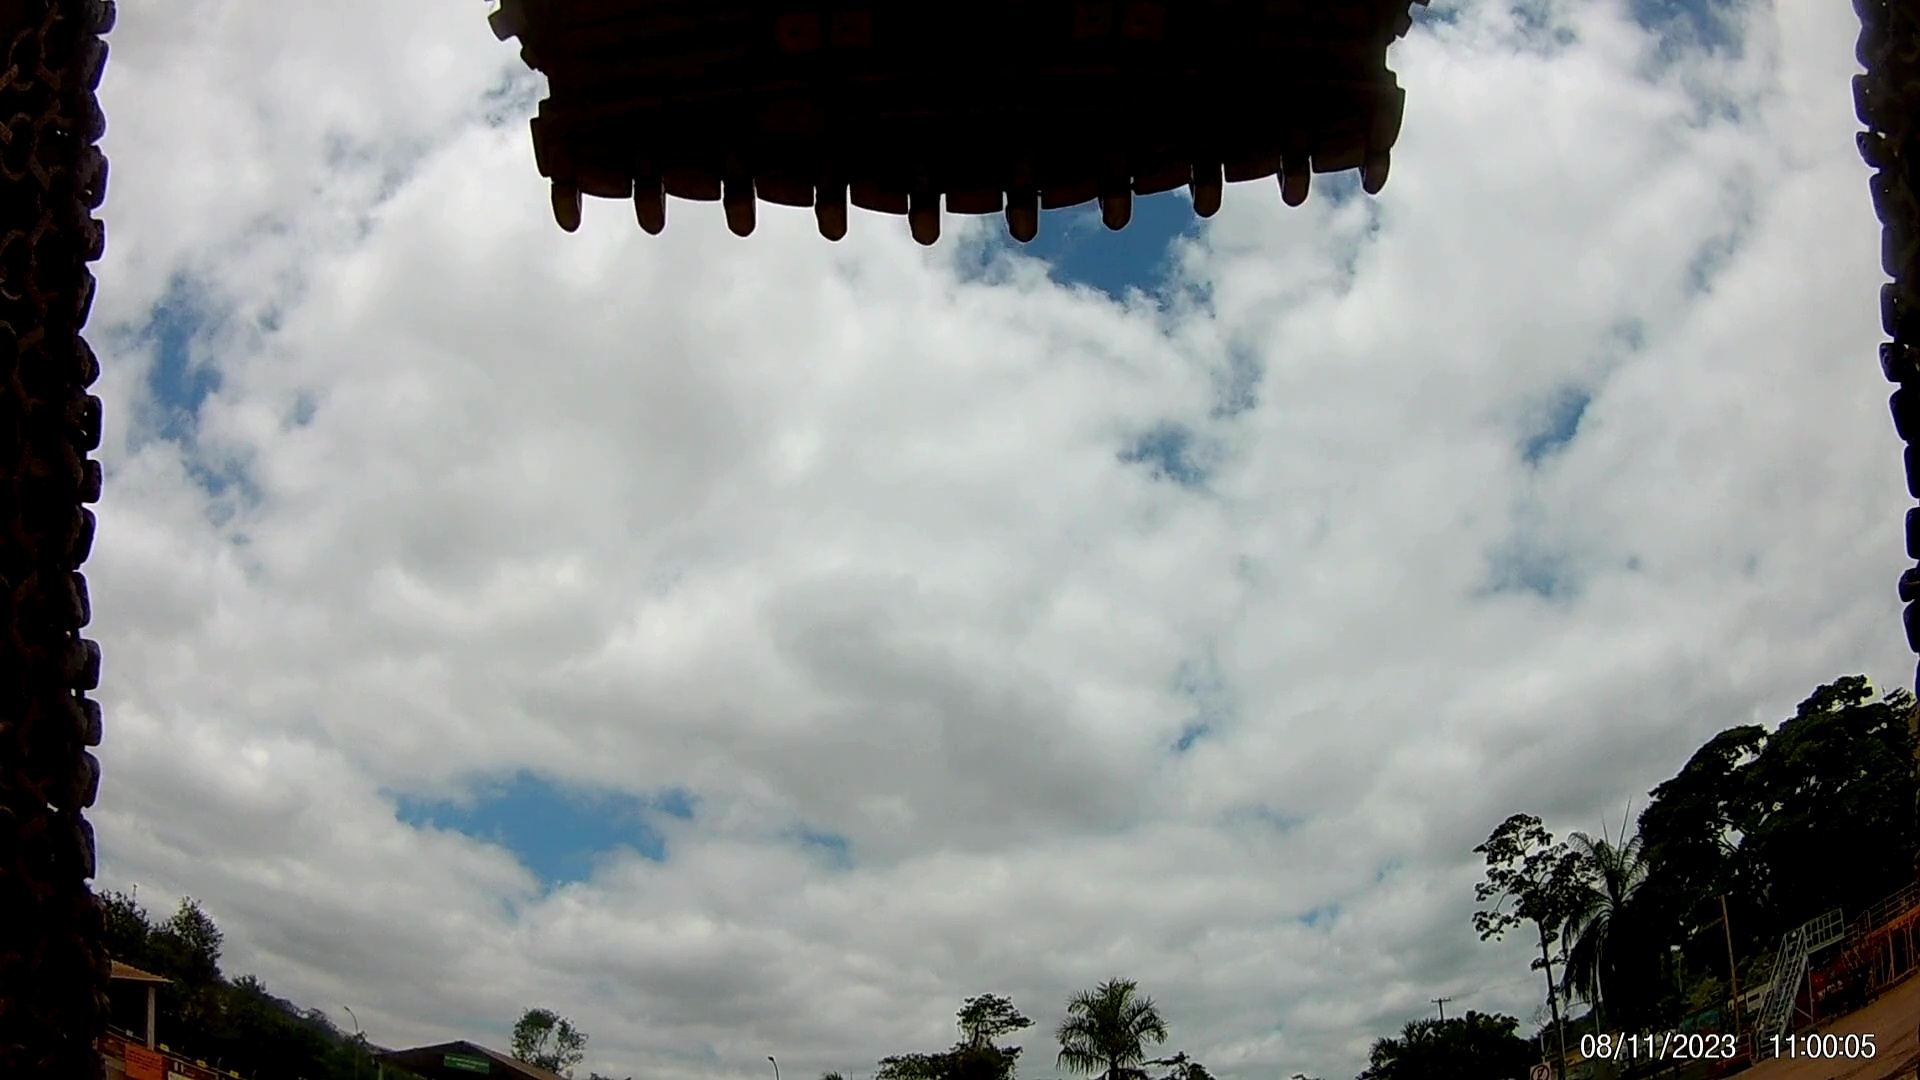FPS: (525, 179, 613, 255), (1083, 181, 1160, 248), (1266, 141, 1323, 229), (989, 174, 1039, 255), (811, 181, 861, 257), (1192, 157, 1240, 229), (1361, 150, 1418, 207), (637, 174, 673, 257), (723, 179, 764, 237), (905, 193, 947, 243)
